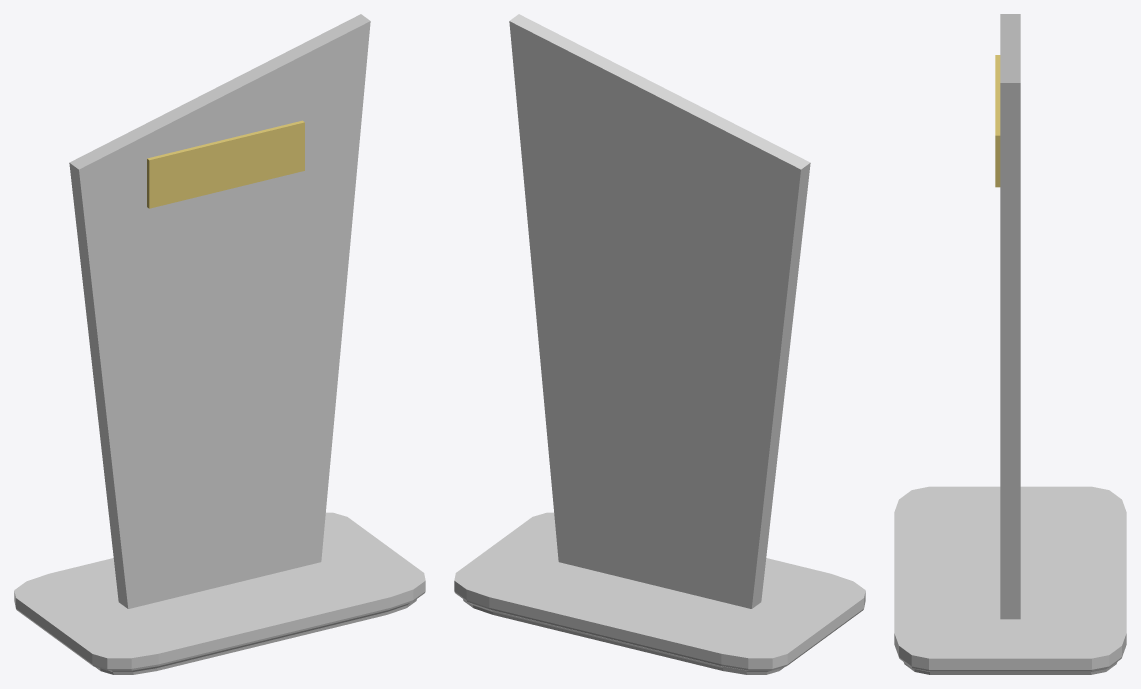
Rendered from trophy_glass.fbx.
3 renders of one model, left to right at view 1: azimuth 30°, elevation 25°; view 2: azimuth 150°, elevation 25°; view 3: azimuth 270°, elevation 25°, orthographic. The views are drawn at different scales.
Parts seen in each view (by area): view 1: body-trophee, base-trophee, nametag-trophee.001; view 2: body-trophee, base-trophee; view 3: base-trophee, body-trophee, nametag-trophee.001.
Part boxes in pixels (x1,y1,x2,y2): body-trophee: (69,14,370,608); base-trophee: (14,512,425,674); nametag-trophee.001: (147,120,304,208); body-trophee: (509,14,810,608); base-trophee: (454,512,865,674); base-trophee: (894,486,1126,674); body-trophee: (1000,14,1020,619); nametag-trophee.001: (995,55,1000,187).
Bounding box in the file's own units: 134 × 214 × 76.83.
